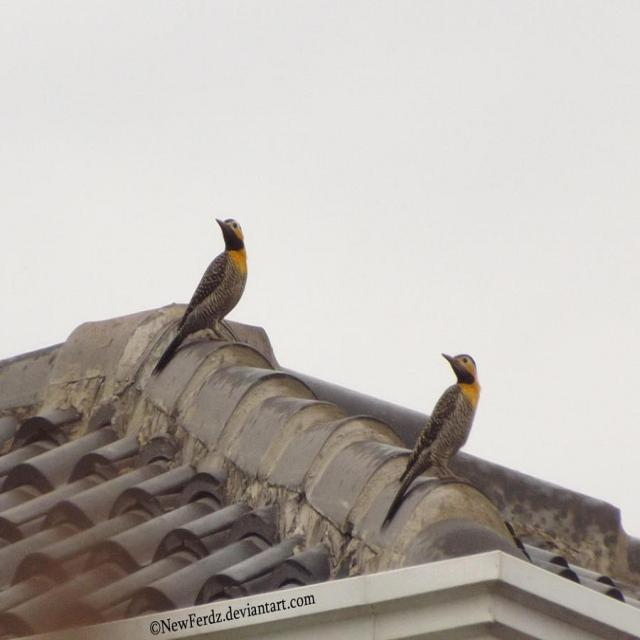bird: (378, 350, 482, 533), (150, 215, 250, 379)
